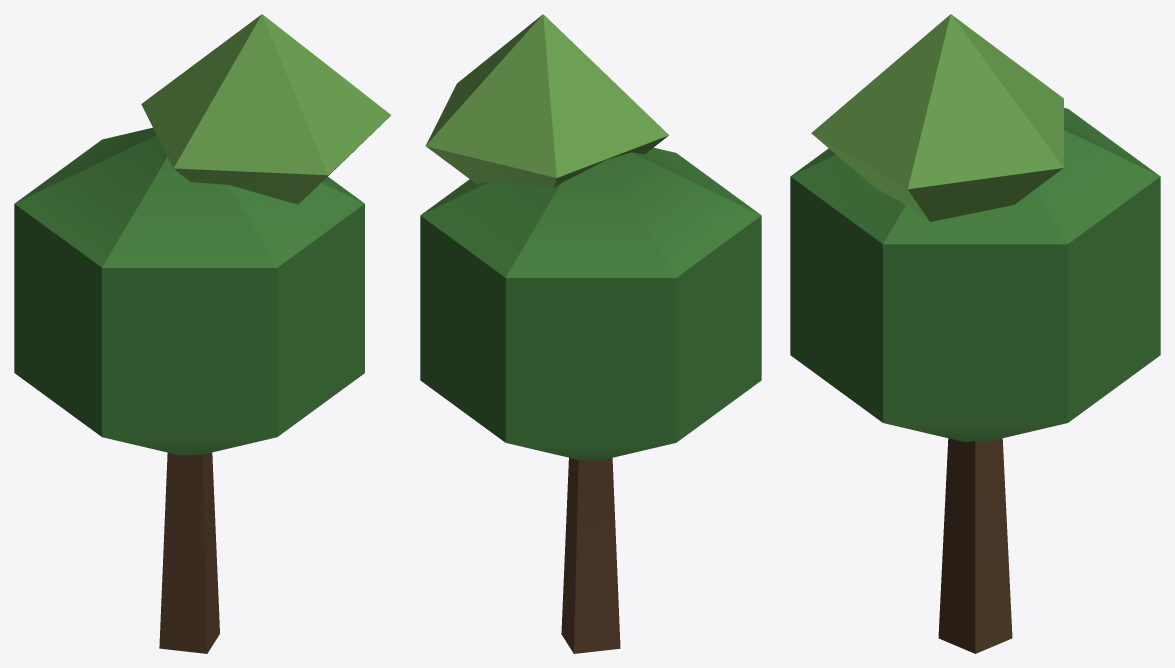
File: tree.fbx
The picture shows the model from 3 angles, left to right: view 1: azimuth 30°, elevation 25°; view 2: azimuth 150°, elevation 25°; view 3: azimuth 270°, elevation 25°; orthographic projection. The views are drawn at different scales.
Visible parts, largest first — view 1: tree; view 2: tree; view 3: tree.
Boxes of the visible parts, bbox=[...] form: tree: bbox=[14, 14, 391, 653]; tree: bbox=[420, 14, 761, 653]; tree: bbox=[790, 14, 1160, 653].
Bounding box in the file's own units: 4.47 × 8.8 × 4.5.
